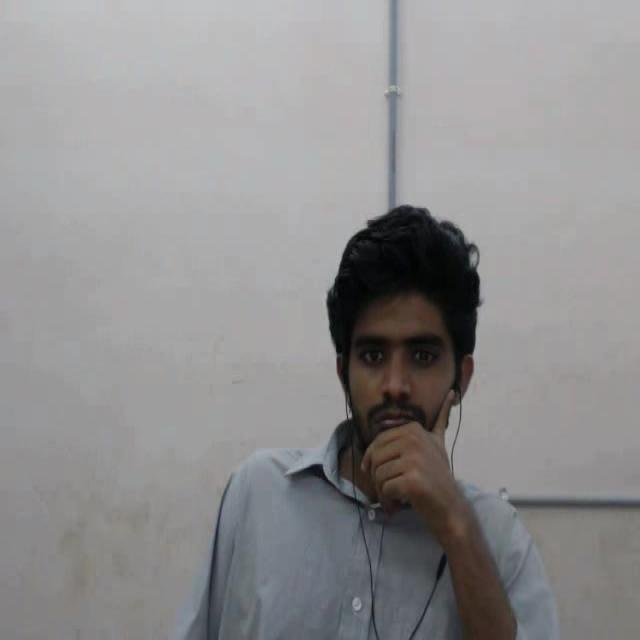Bored: (319, 179, 509, 493)
